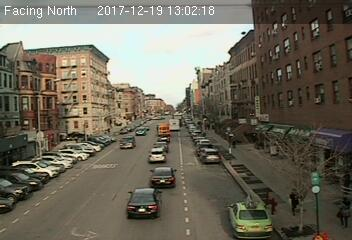car: (226, 194, 275, 238), (127, 187, 163, 220), (150, 166, 177, 187), (200, 149, 221, 164), (148, 147, 167, 162), (119, 136, 136, 150)
truck: (158, 123, 171, 136), (169, 119, 179, 132)
